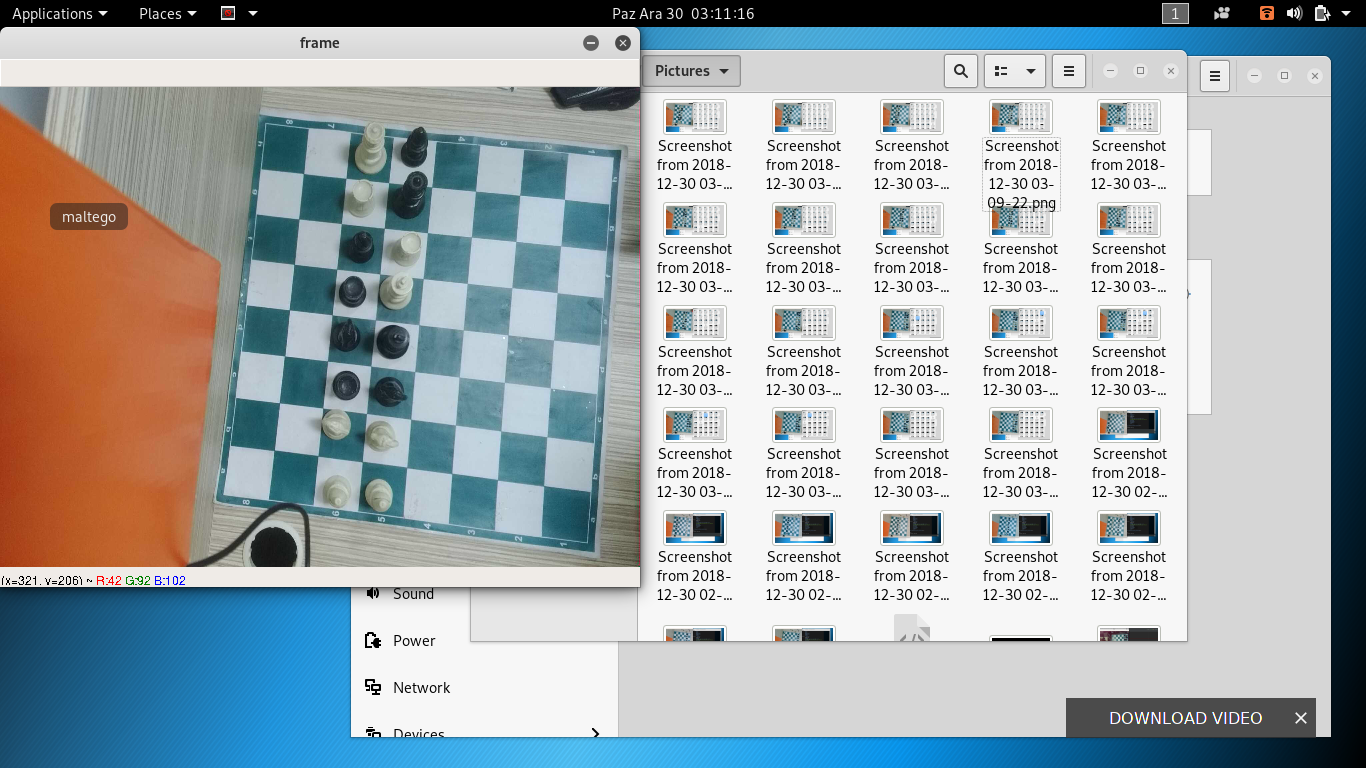BeyazAt: (365, 418, 401, 451), (320, 408, 351, 440)
BeyazFil: (365, 477, 395, 513), (323, 476, 354, 509)
BeyazKale: (344, 179, 376, 216)
BeyazSah: (378, 274, 417, 310)
SiyahAt: (375, 377, 409, 409), (330, 319, 360, 351)
SiyahFil: (399, 125, 429, 166), (343, 229, 374, 263)
SiyahKale: (333, 370, 360, 399), (341, 276, 367, 306)
SiyahSah: (377, 325, 411, 359)
SiyahVezir: (351, 122, 388, 173), (393, 169, 429, 219)
dog: (391, 231, 422, 263)
